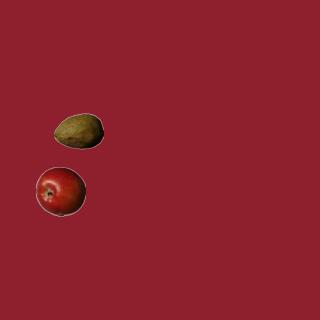Apple Braeburn: (35, 166, 85, 216)
Papaya: (53, 106, 103, 156)
